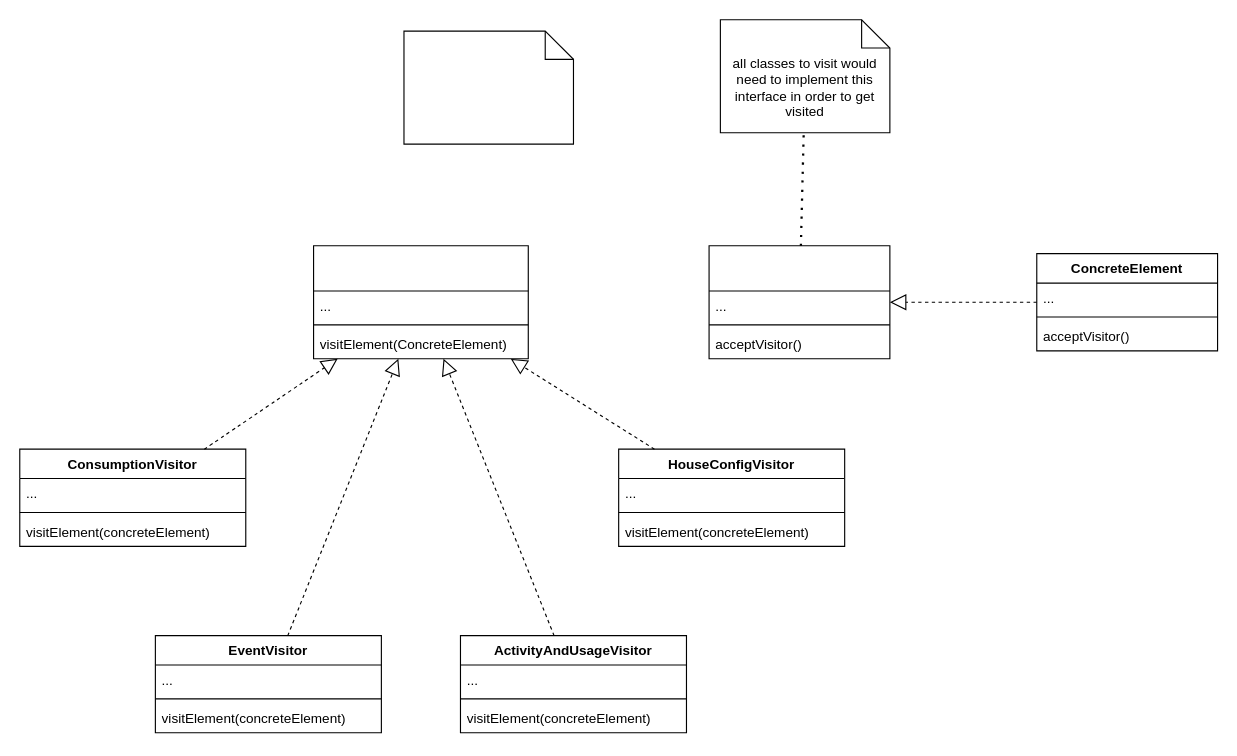
Some shapes in this 1237 by 756 pixel diagram are drawn without their labels. Each missing label, with the box of its shape:
VISITOR pattern - for creating reports: (403, 30, 573, 144)
«interface» Element: (708, 245, 890, 359)
«interface» ReportVisitor: (312, 245, 528, 359)
